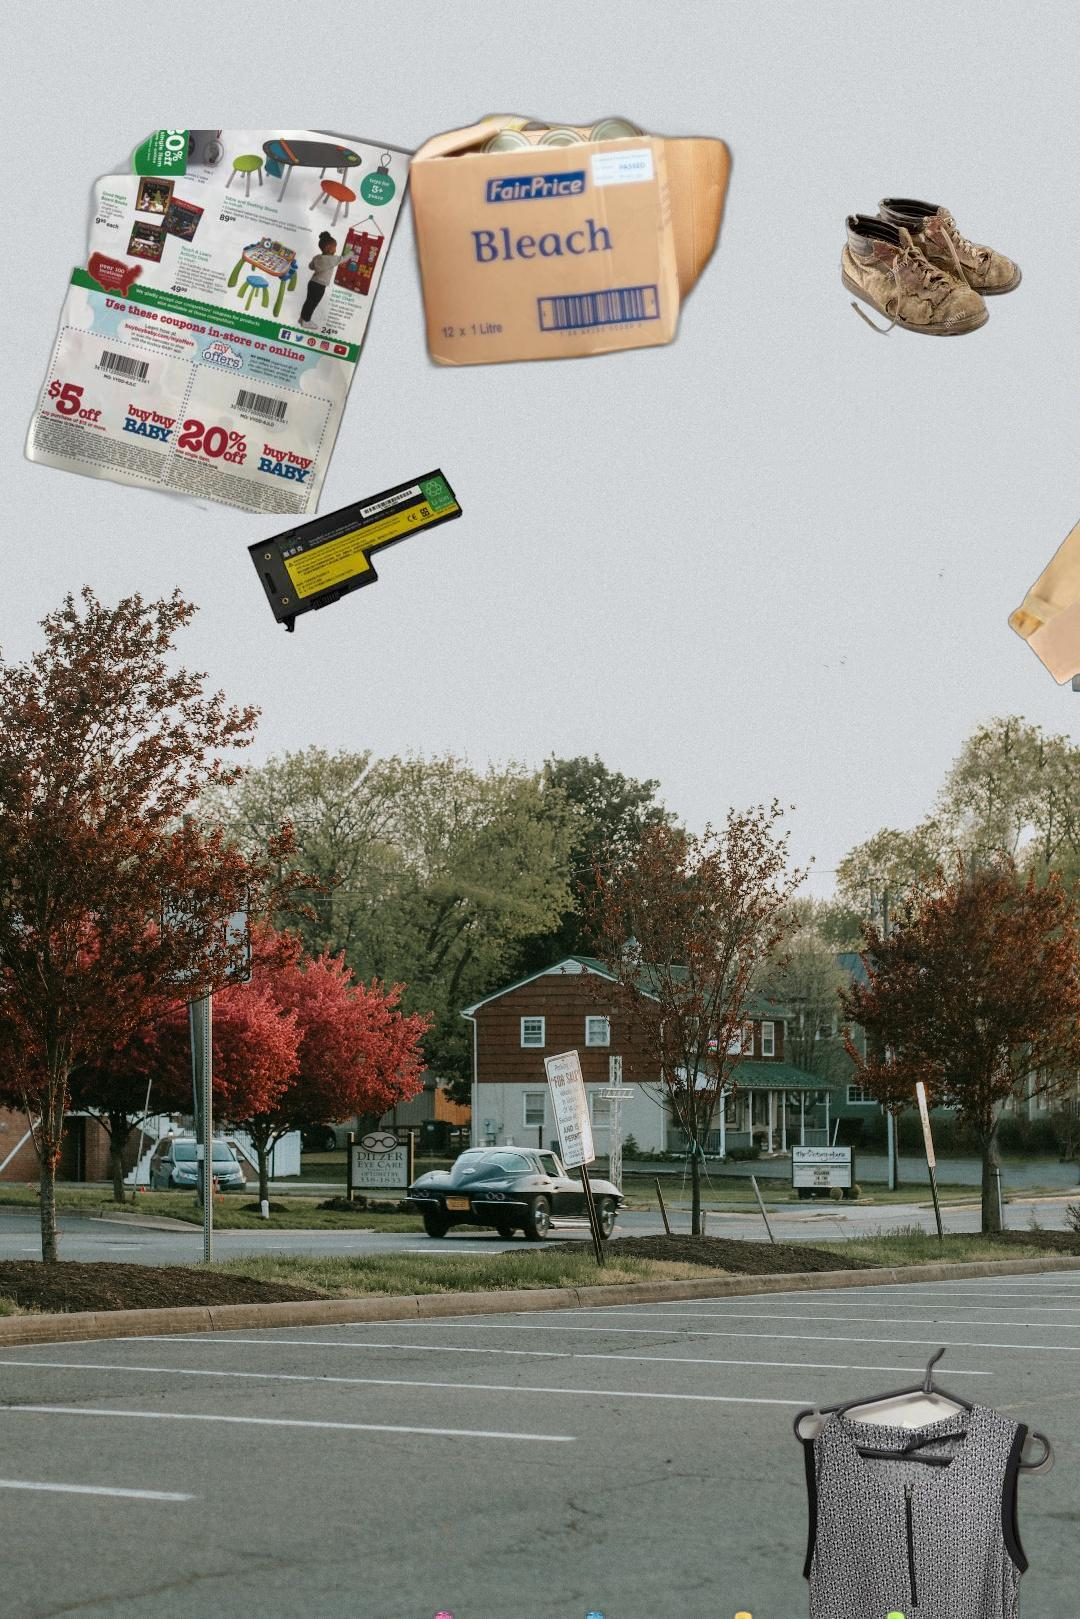battery: (243, 465, 465, 637)
clothes: (716, 1348, 1056, 1619)
paper: (19, 130, 424, 514)
paper-bag: (1006, 468, 1080, 691)
penholder: (336, 1584, 994, 1619)
shoes: (837, 195, 1025, 339)
trash: (1066, 528, 1080, 703)
trashbox-cardboard: (397, 104, 746, 376)
